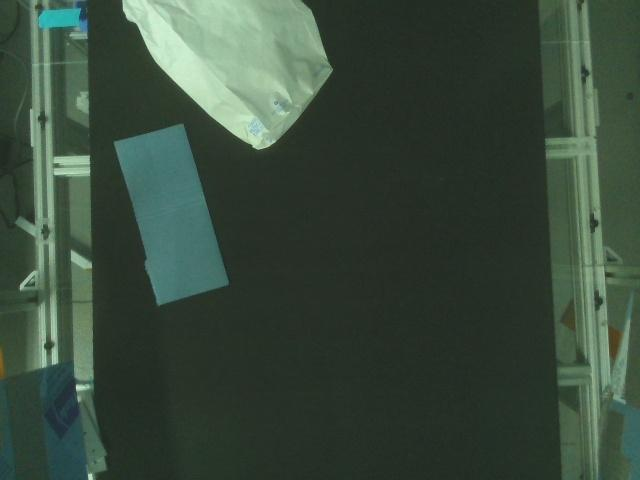cardboard: (113, 122, 231, 306)
paper: (120, 0, 334, 152)
